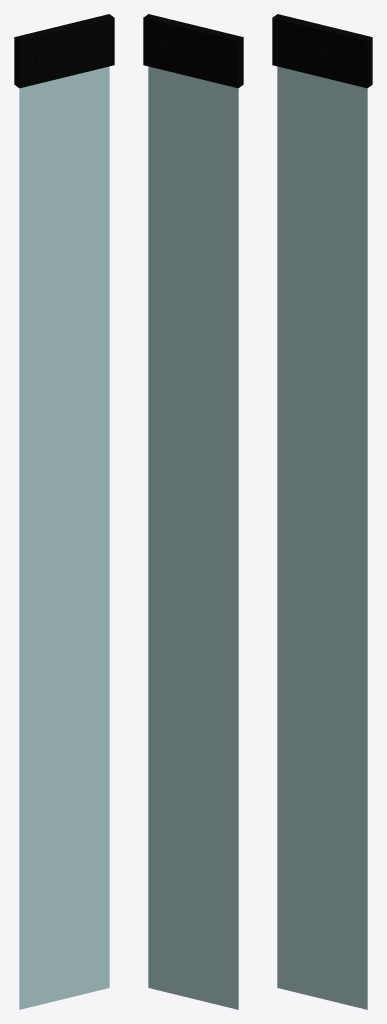
File: Vinyl_Curtain.fbx
The picture shows the model from 3 angles, left to right: view 1: azimuth 30°, elevation 25°; view 2: azimuth 150°, elevation 25°; view 3: azimuth 330°, elevation 25°; orthographic projection.
Visible parts, largest first — view 1: Place_holder; view 2: Place_holder; view 3: Place_holder.
Part boxes in pixels (x1,y1,x2,y2): Place_holder: (14,14,114,1009); Place_holder: (143,14,243,1009); Place_holder: (272,14,372,1009).
Bounding box in the file's own units: 2.5 × 21 × 205.
